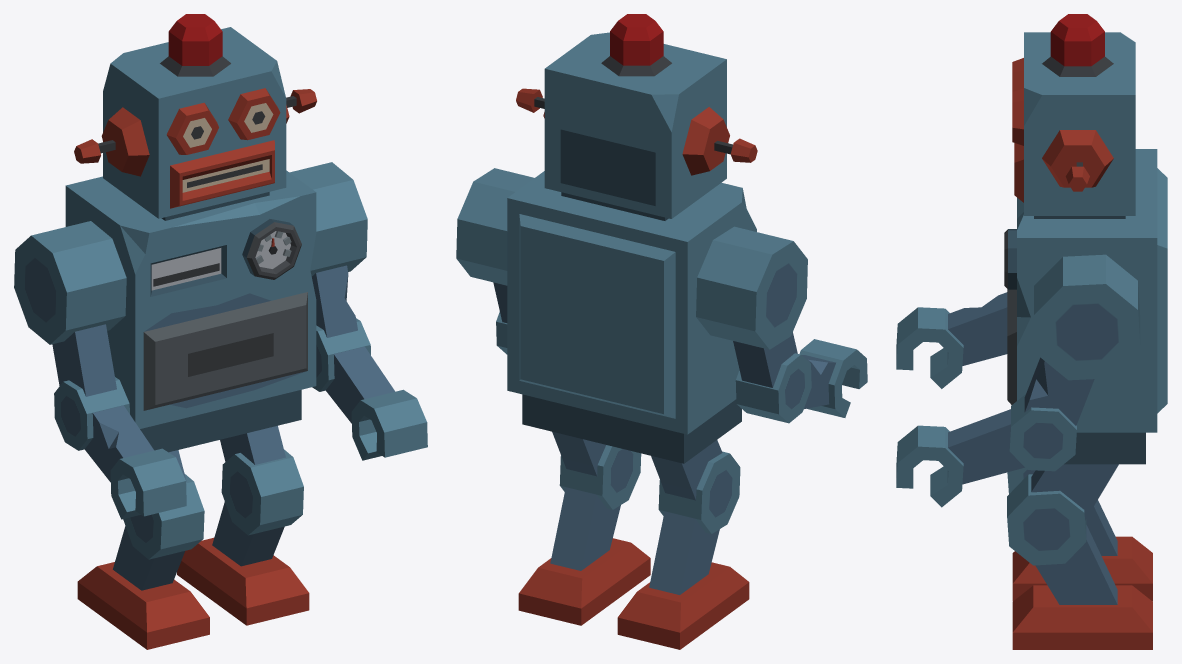
File: Arcade_Robot.fbx
3 views of the same model, side by side, from view 1: azimuth 30°, elevation 25°; view 2: azimuth 150°, elevation 25°; view 3: azimuth 270°, elevation 25° (orthographic).
Visible parts, largest first — view 1: Arcade_Robot; view 2: Arcade_Robot; view 3: Arcade_Robot.
Part boxes in pixels (x1,y1,x2,y2): Arcade_Robot: (14, 14, 427, 649); Arcade_Robot: (456, 14, 867, 649); Arcade_Robot: (896, 14, 1167, 649).
Size of the model in its own units: 113 by 210 by 87.68.
Materials: 1 (1 with a texture image).
